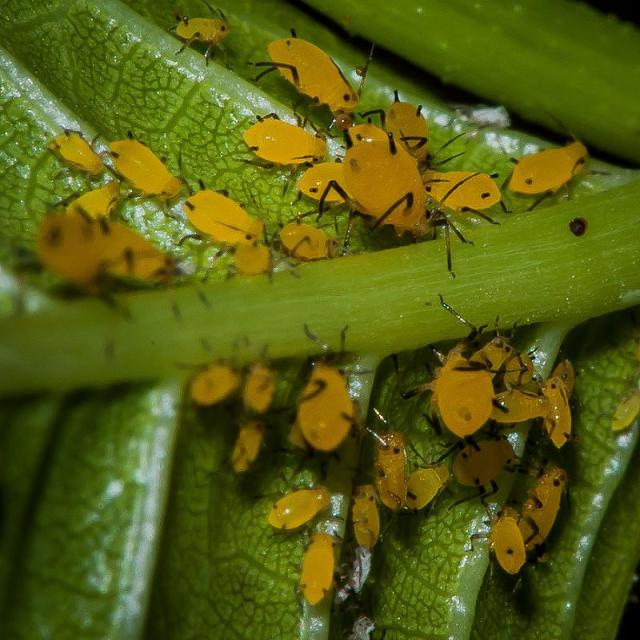Aphids: (326, 135, 470, 262), (34, 204, 190, 312), (486, 120, 600, 218), (266, 27, 384, 119), (412, 330, 510, 437), (226, 98, 344, 178), (292, 359, 364, 462), (96, 118, 179, 204), (179, 185, 269, 257), (301, 536, 356, 612), (185, 360, 245, 412), (174, 0, 231, 52), (372, 432, 409, 509), (538, 378, 574, 449), (490, 512, 532, 572), (230, 428, 271, 477), (244, 364, 282, 413)
